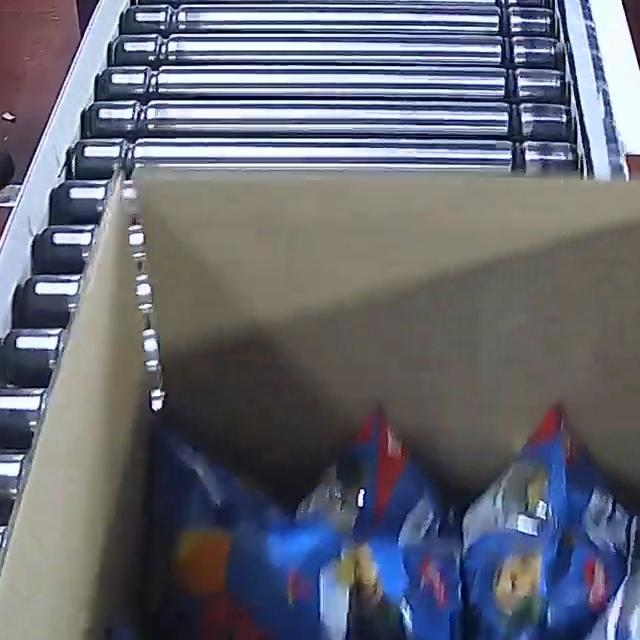paprika: (116, 397, 640, 640)
